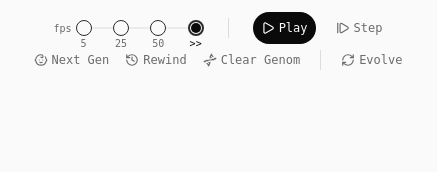
Test case: PlayDock › shows ConfirmInline after clicking Clear Genom
Click the button with aria-label "clear genome" at (251, 60), box [195, 44, 308, 76]
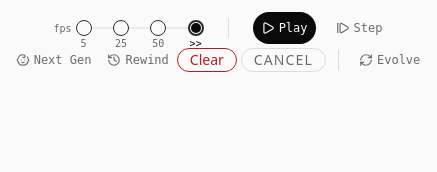
Expected: the button "Clear" is shown, [177, 48, 237, 72]
Expected: the button "Cancel" is shown, [241, 48, 326, 72]
